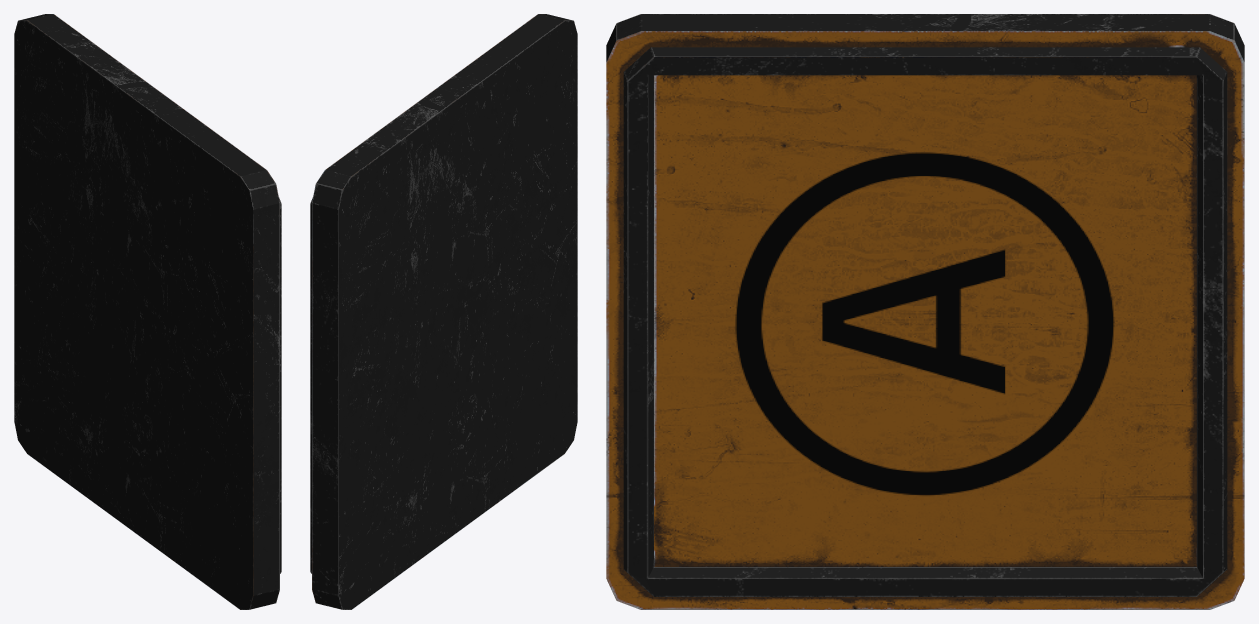
Rendered from A_Pad.gltf.
The picture shows the model from 3 angles, left to right: view 1: azimuth 30°, elevation 25°; view 2: azimuth 150°, elevation 25°; view 3: azimuth 270°, elevation 25°; orthographic projection. The views are drawn at different scales.
Visible parts, largest first — view 1: Cube.007; view 2: Cube.007; view 3: Cube.007.
Part boxes in pixels (x1,y1,x2,y2): Cube.007: (14,14,281,609); Cube.007: (310,14,577,609); Cube.007: (606,14,1244,609).
Bounding box in the file's own units: 0.1759 × 2 × 2.
1 material, 1 textured.
